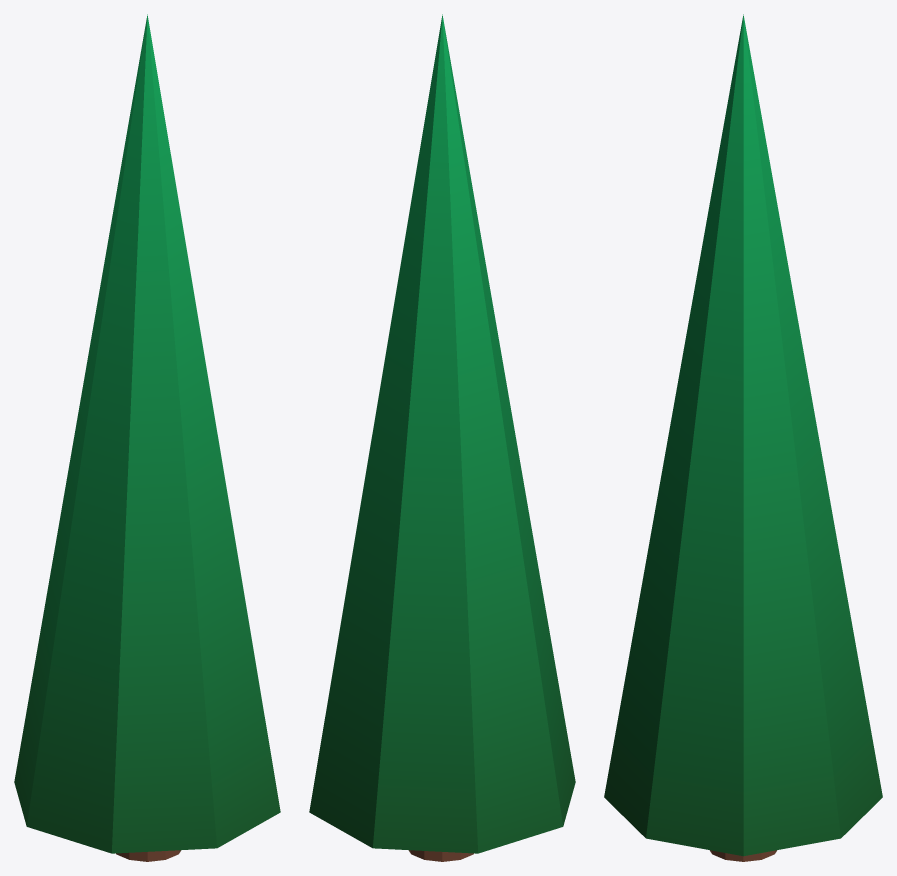
File: Tree_24_gradient_green_vc.fbx
3 renders of one model, left to right at view 1: azimuth 30°, elevation 25°; view 2: azimuth 150°, elevation 25°; view 3: azimuth 270°, elevation 25°, orthographic.
Parts seen in each view (by area): view 1: Tree_24_gradient_green_vc; view 2: Tree_24_gradient_green_vc; view 3: Tree_24_gradient_green_vc.
Part boxes in pixels (bbox=[...]): Tree_24_gradient_green_vc: bbox=[14, 14, 280, 861]; Tree_24_gradient_green_vc: bbox=[309, 14, 575, 861]; Tree_24_gradient_green_vc: bbox=[604, 14, 882, 861].
Size of the model in its own units: 85.35 by 281 by 85.35.
